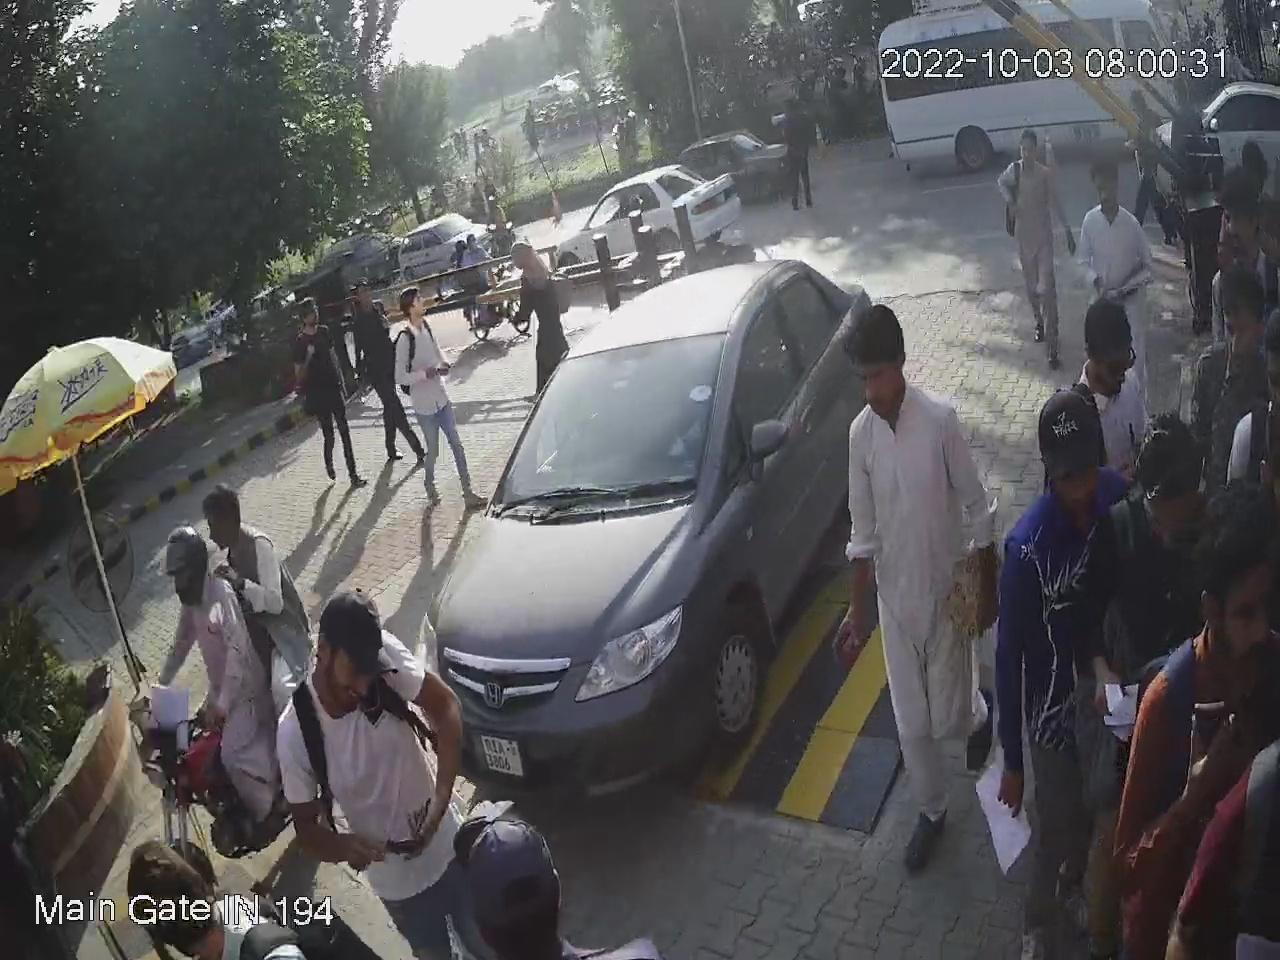windshield: (486, 333, 734, 515)
